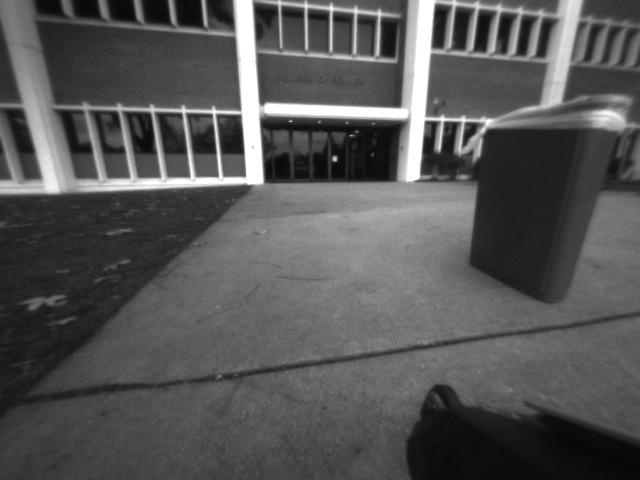trashcan: (459, 81, 640, 317)
